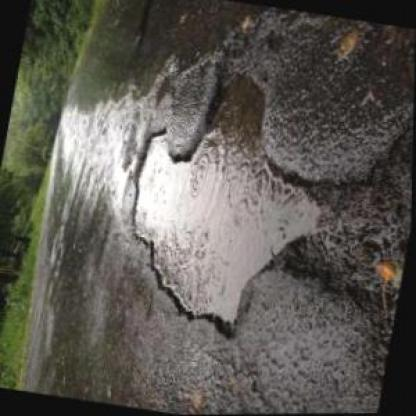pothole: (105, 52, 340, 354)
